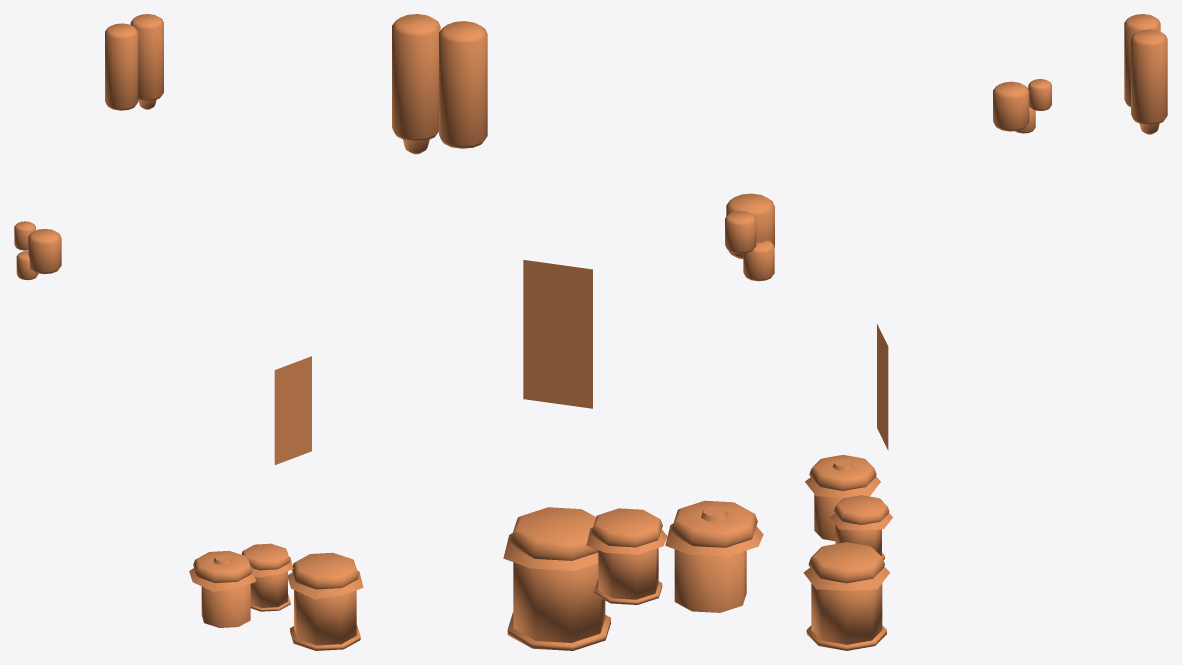
The model's file is cuve saké 02.fbx.
3 renders of one model, left to right at view 1: azimuth 30°, elevation 25°; view 2: azimuth 150°, elevation 25°; view 3: azimuth 270°, elevation 25°, orthographic. The views are drawn at different scales.
Visible parts, largest first — view 1: Plane.484, Circle.059, Circle.154, Circle.090, Circle.152, Circle.151, Circle.051, Circle.047, Circle.055, Circle.091; view 2: Plane.484, Circle.059, Circle.152, Circle.154, Circle.090, Circle.151, Circle.051, Circle.055, Circle.091, Circle.047, Circle.048, Circle.108; view 3: Circle.059, Circle.152, Circle.090, Circle.151, Circle.091, Circle.047, Plane.484, Circle.154, Circle.051, Circle.055, Circle.048.
Part boxes in pixels (box(x1,y1,x2,y2)): Plane.484: box(274, 356, 311, 464); Circle.059: box(290, 590, 360, 650); Circle.154: box(105, 23, 138, 110); Circle.090: box(288, 552, 363, 599); Circle.152: box(130, 14, 163, 109); Circle.151: box(189, 550, 256, 591); Circle.051: box(201, 584, 250, 627); Circle.047: box(28, 229, 61, 274); Circle.055: box(250, 571, 290, 611); Circle.091: box(241, 543, 293, 577); Plane.484: box(523, 260, 592, 408); Circle.059: box(507, 562, 610, 650); Circle.152: box(392, 14, 440, 154); Circle.154: box(439, 21, 487, 148); Circle.090: box(503, 507, 598, 570); Circle.151: box(665, 500, 763, 556); Circle.051: box(674, 549, 746, 612); Circle.055: box(594, 548, 662, 604); Circle.091: box(586, 508, 667, 554); Circle.047: box(726, 193, 774, 258); Circle.048: box(725, 211, 756, 253); Circle.108: box(743, 240, 774, 281); Circle.059: box(806, 583, 886, 650); Circle.152: box(1131, 29, 1167, 134); Circle.090: box(803, 542, 889, 590); Circle.151: box(805, 455, 880, 497); Circle.091: box(830, 495, 892, 530); Circle.047: box(993, 81, 1029, 131); Plane.484: box(877, 324, 888, 450); Circle.154: box(1124, 14, 1160, 107); Circle.051: box(814, 494, 845, 541); Circle.055: box(835, 524, 884, 559); Circle.048: box(1028, 79, 1051, 110).
Size of the model in its own units: 4134 by 7960 by 4556.
